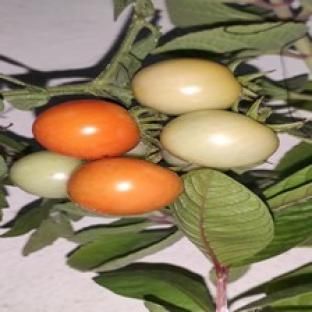Tomato: (161, 111, 278, 168), (69, 158, 182, 214), (133, 59, 242, 115), (33, 101, 140, 158), (10, 151, 82, 197)
